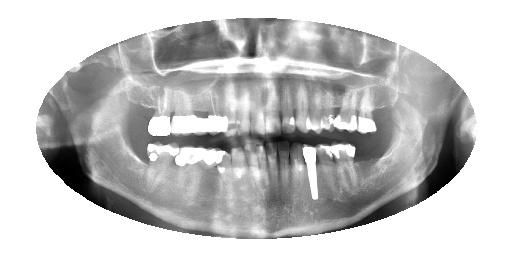Fillings: (145, 141, 179, 192), (176, 147, 205, 194), (147, 87, 173, 137), (333, 143, 357, 193), (204, 89, 228, 135), (203, 148, 228, 191), (170, 93, 196, 133), (334, 88, 357, 131), (317, 144, 335, 196), (358, 89, 377, 134), (193, 90, 207, 133)
Implant: (303, 146, 318, 200)
